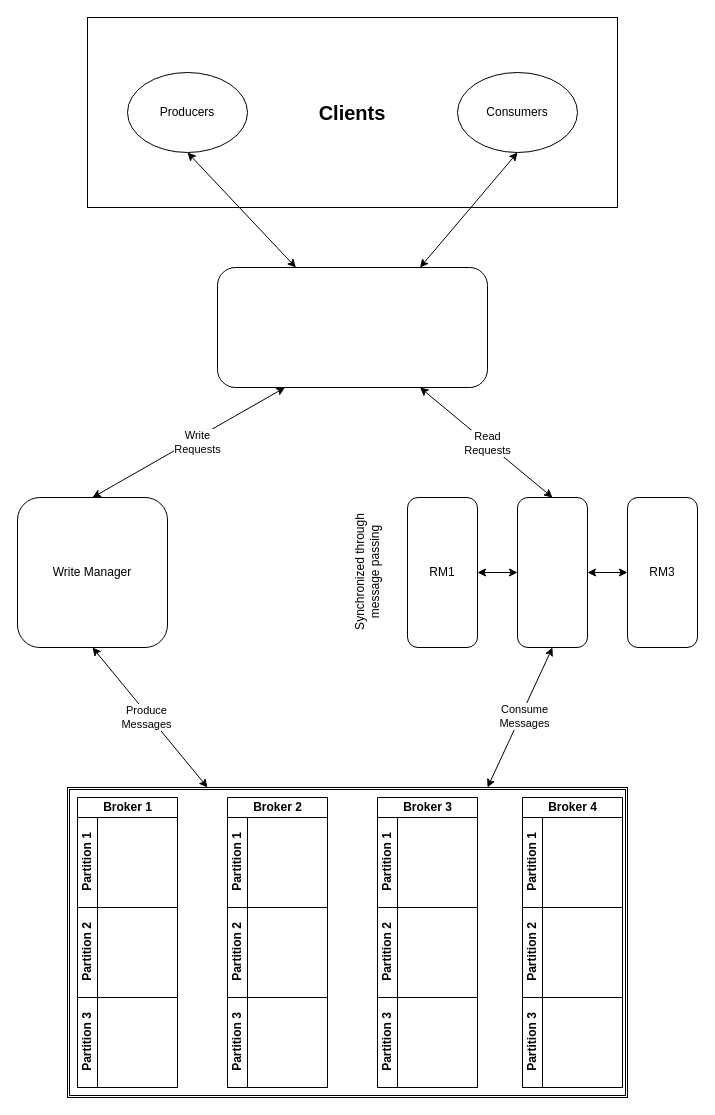
The diagram is 715 pixels wide and 1115 high, and some of its shapes have lost their labels. Each missing label, with the centre of its shape:
"Load Balancer" goes at point 352,327.
"RM2" goes at point 552,572.
